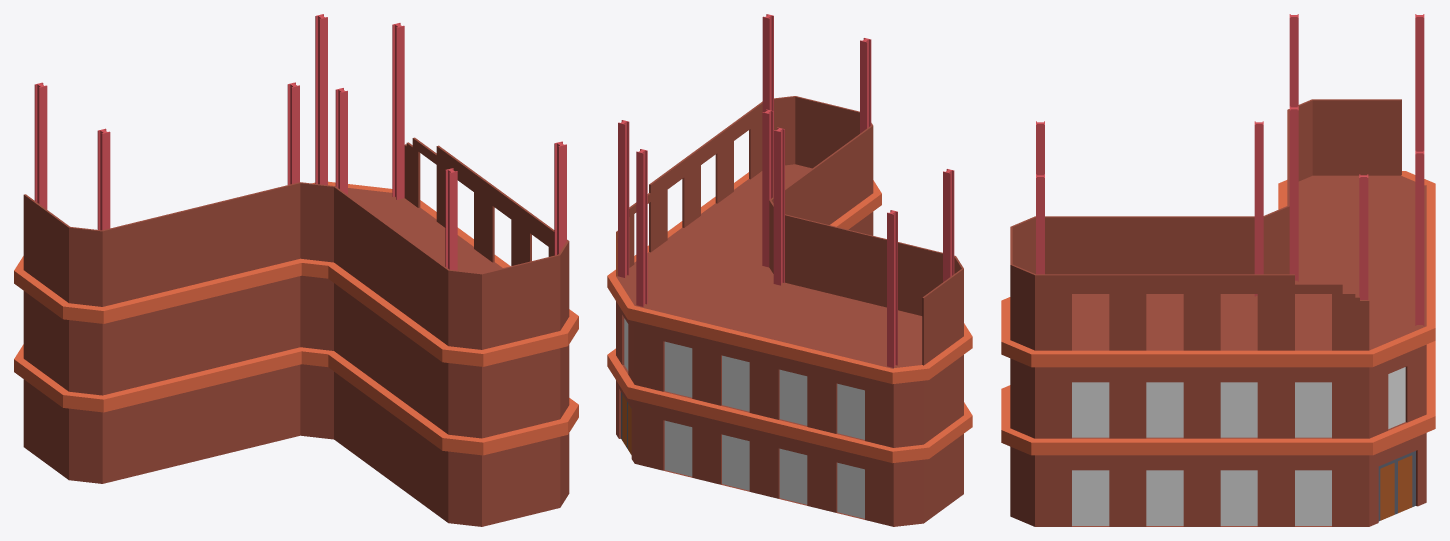
3 renders of one model, left to right at view 1: azimuth 30°, elevation 25°; view 2: azimuth 150°, elevation 25°; view 3: azimuth 270°, elevation 25°, orthographic. The views are drawn at different scales.
Parts seen in each view (by area): view 1: Predio 6 A; view 2: Predio 6 A; view 3: Predio 6 A.
Boxes of the visible parts, x1=… form: Predio 6 A: x1=14, y1=14, x2=578, y2=526; Predio 6 A: x1=607, y1=14, x2=972, y2=526; Predio 6 A: x1=1001, y1=14, x2=1435, y2=526.
Bounding box in the file's own units: 8946 × 7913 × 8946.
